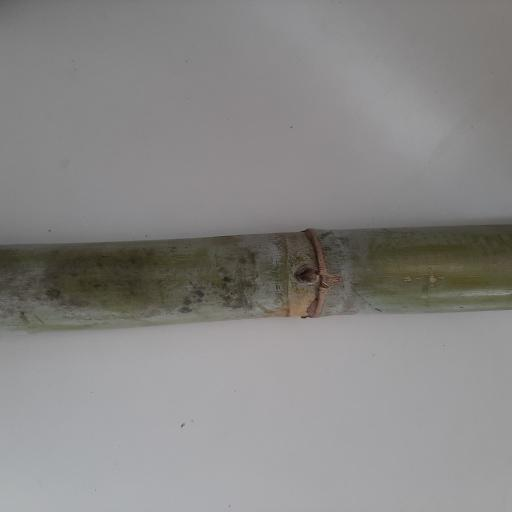Bud: (295, 265, 318, 284)
